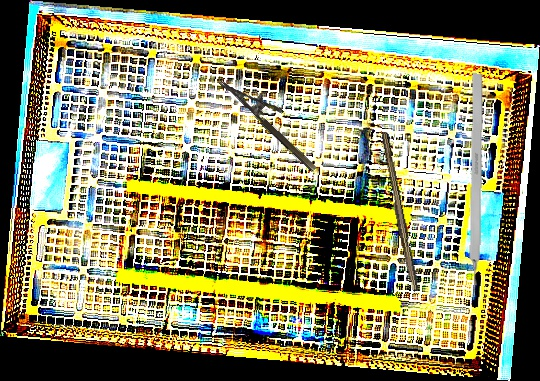Hook Surgical: (468, 73, 484, 302)
Needle Holder: (218, 64, 329, 174)
Scalpel Handle: (376, 131, 422, 293)
